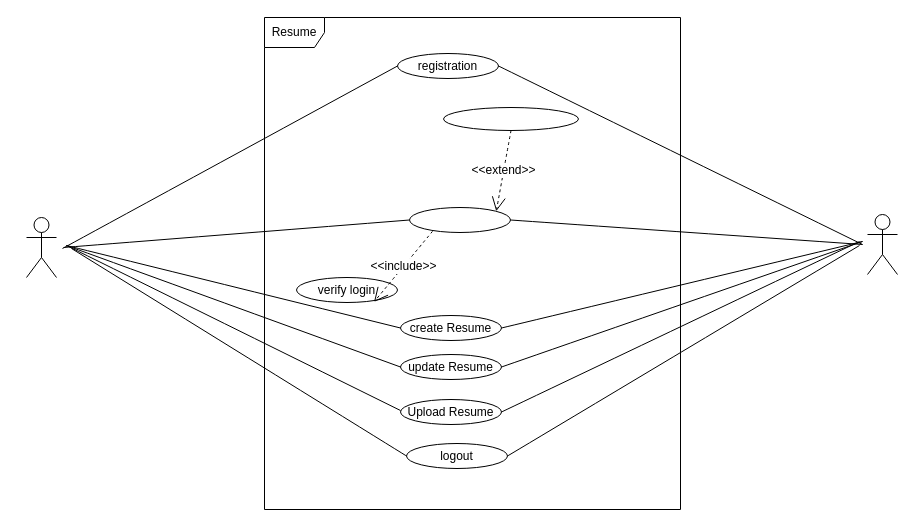
This 924x527 diagram has some shape labels left out. Here are the shapes that lost their labels. From the top down, the centre of each, then its label:
[510,118]: Display error message
[459,219]: login
[41,247]: Applicant
[882,244]: Recruiter
